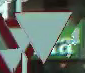Give way: (3, 4, 70, 63)
